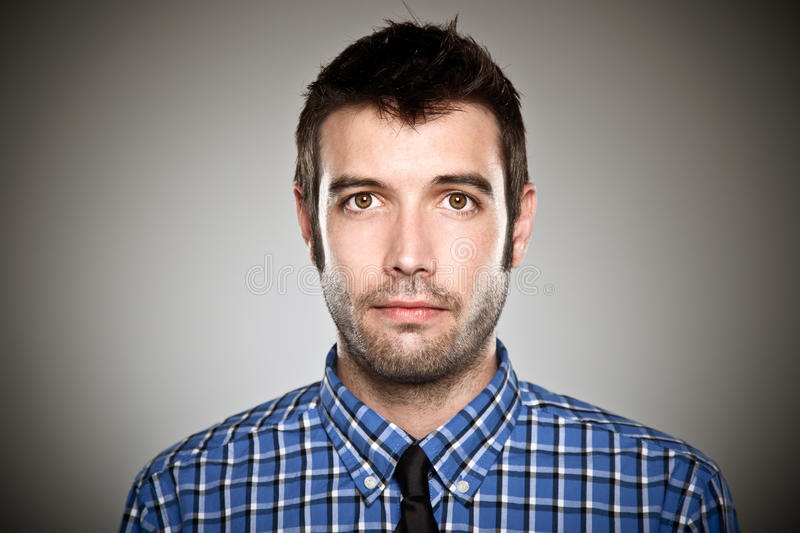NoMask: (321, 164, 501, 380)
